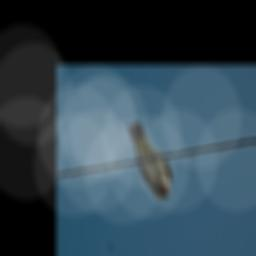Swallow: (125, 121, 172, 202)
